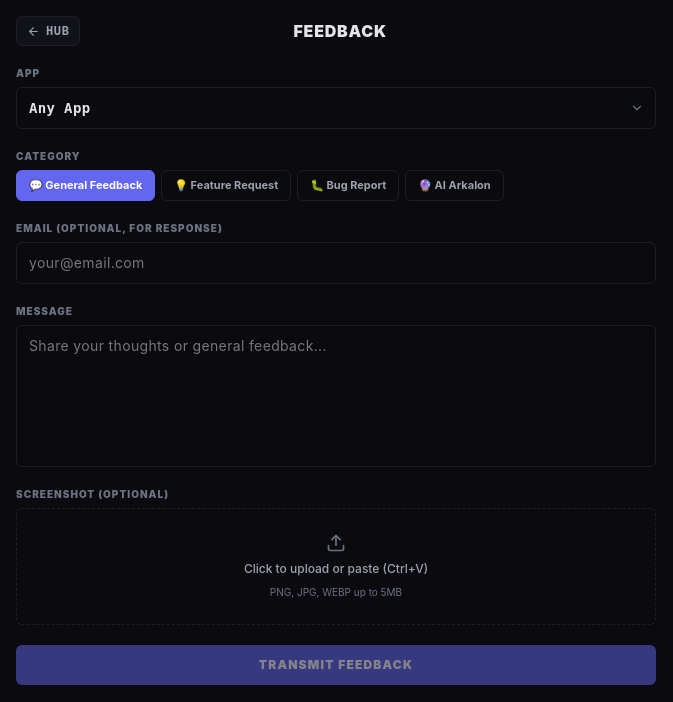
it: FeedbackPage › disables submit button while submission is pending
Type "Test message" into the text box at (336, 396), box [16, 324, 656, 466]
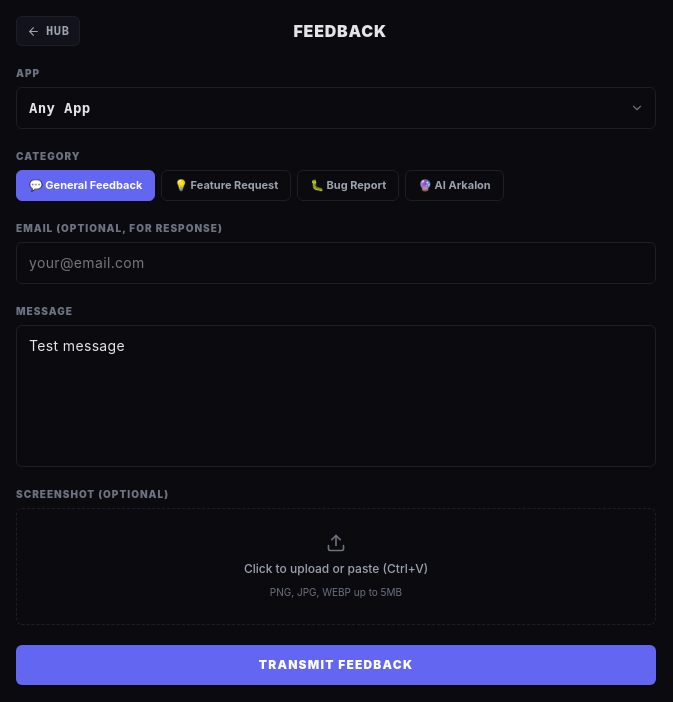
Click the button "TRANSMIT FEEDBACK" at (336, 664), box [16, 644, 656, 684]
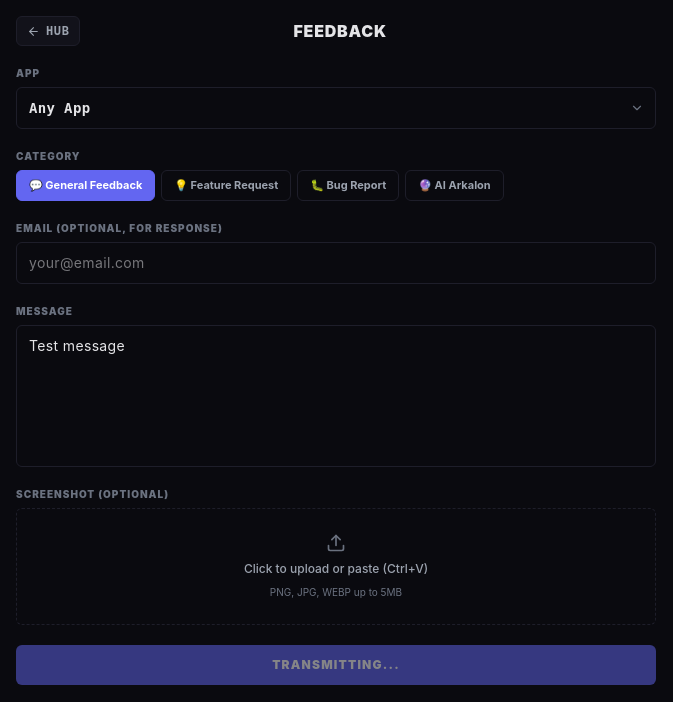
Expected: the button named "transmit feedback" is disabled, [16, 644, 656, 684]
